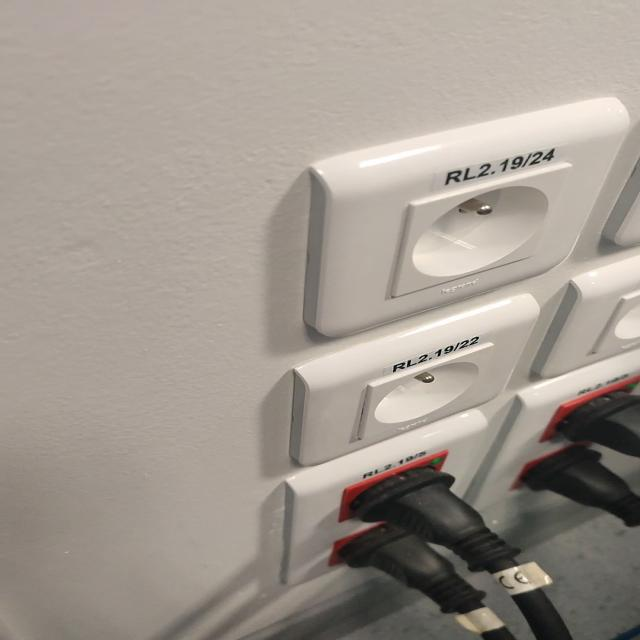house plug: (393, 164, 564, 300), (359, 344, 490, 441)
